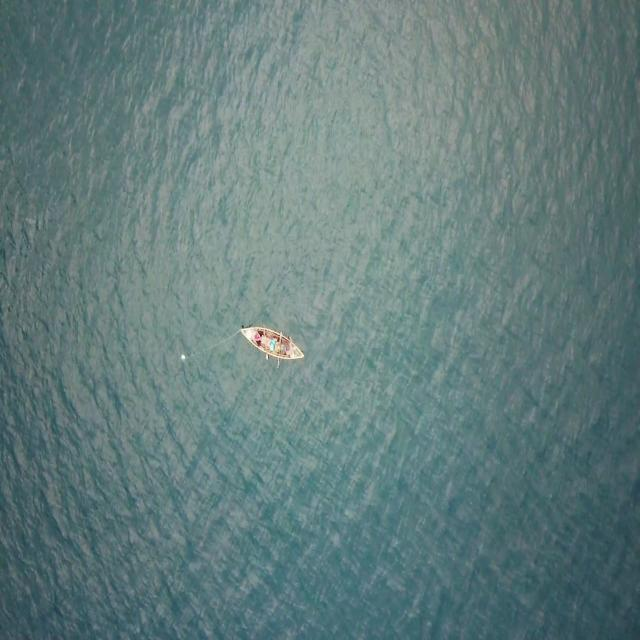ship: (237, 318, 305, 368)
